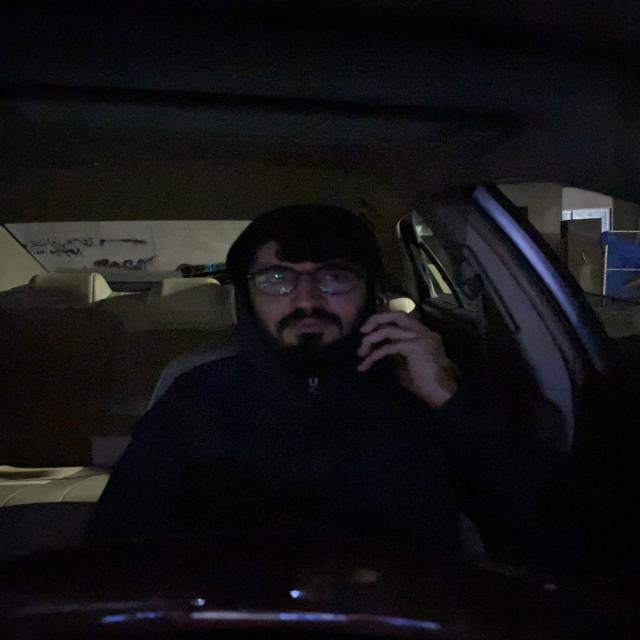person: (224, 200, 416, 384)
